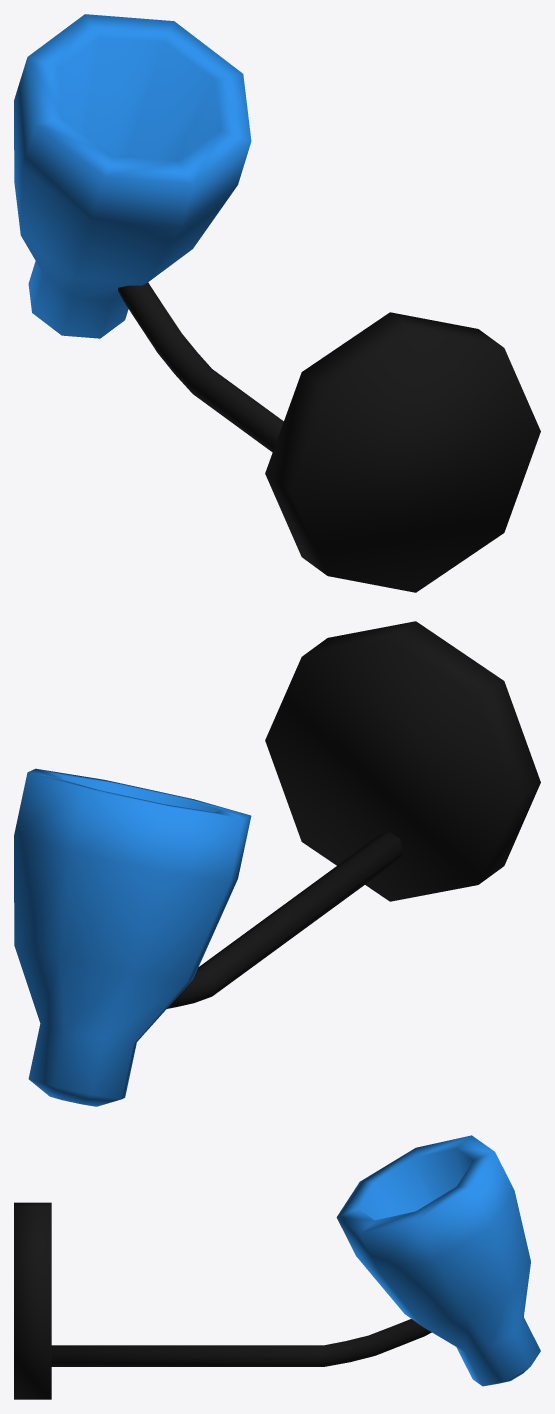
3 views of the same model, one above another, from view 1: azimuth 30°, elevation 25°; view 2: azimuth 150°, elevation 25°; view 3: azimuth 270°, elevation 25° (orthographic). The views are drawn at different scales.
Parts seen in each view (by area): view 1: Circle; view 2: Circle; view 3: Circle.
Boxes of the visible parts, <box> form: Circle: <box>14,14,540,592</box>; Circle: <box>14,621,540,1106</box>; Circle: <box>14,1135,540,1399</box>.
Size of the model in its own units: 14.1 by 18.13 by 35.42.
